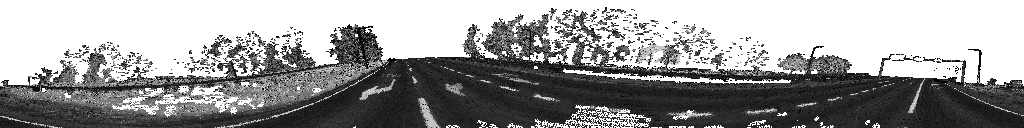gantry_sign_pole: (878, 54, 966, 85)
light_pole: (357, 27, 372, 70), (968, 50, 981, 88), (809, 46, 821, 58)
